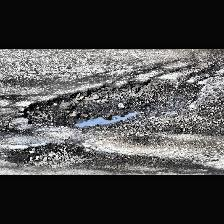pothole: (22, 78, 204, 128), (18, 141, 88, 169)
